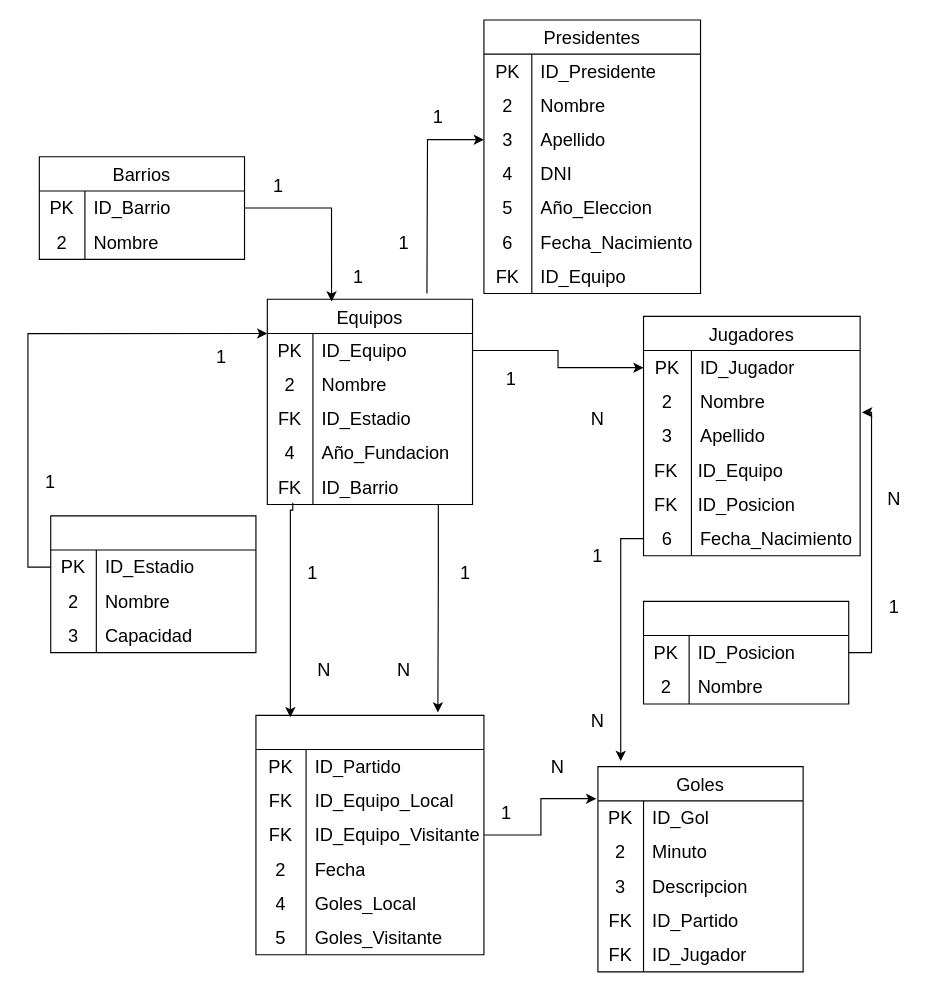
This 937x992 diagram has some shape labels left out. The shapes that lost their labels are listed below. From the top down, each one's box as (x1, y1, x2, y2) in pixels, then its label:
(50, 515, 256, 653): Estadios
(642, 600, 849, 704): Posiciones
(255, 714, 484, 955): Partidos
